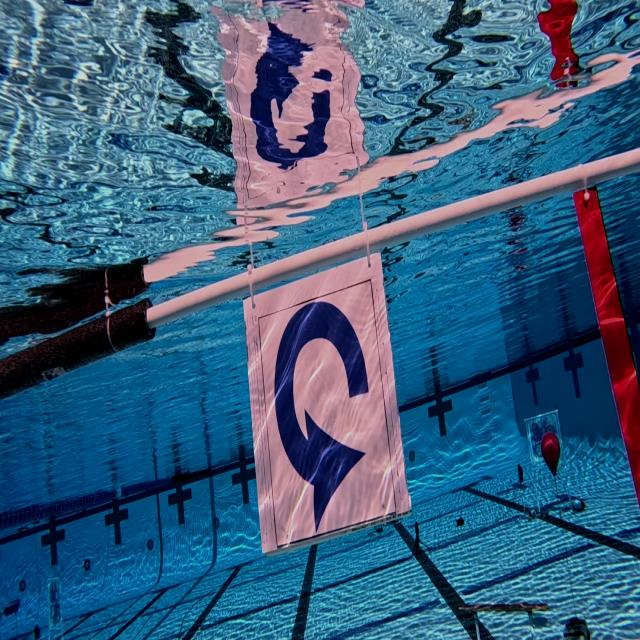blue_side: (244, 250, 412, 557)
